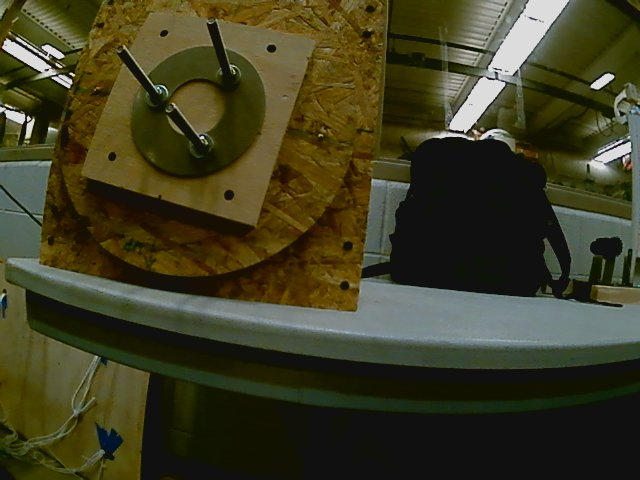bolt: (163, 101, 178, 116), (204, 16, 217, 27), (115, 44, 125, 55)
